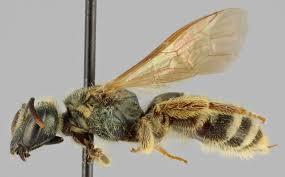Seladonia: (4, 17, 285, 177)
